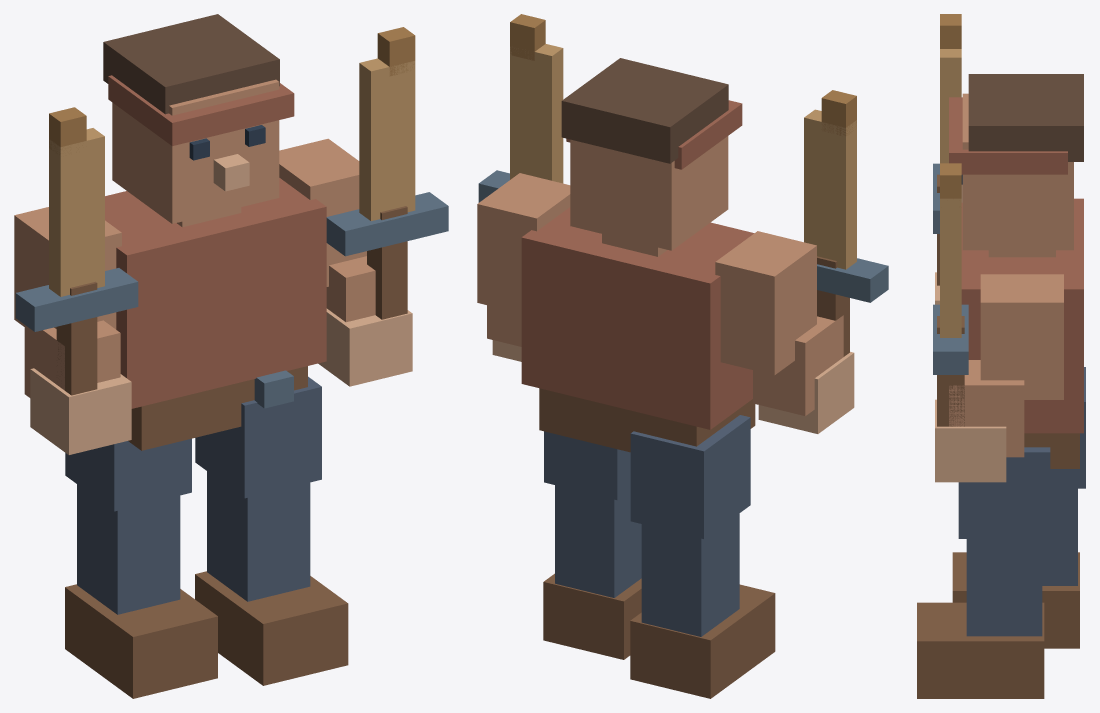
File: arena-q-knives.glb
3 views of the same model, side by side, from view 1: azimuth 30°, elevation 25°; view 2: azimuth 150°, elevation 25°; view 3: azimuth 270°, elevation 25° (orthographic). The views are drawn at different scales.
Visible parts, largest first — view 1: Legs, Cloth, Weapon, Head, Boots, Arms, Hands, Belt, Headband, Face; view 2: Cloth, Legs, Head, Arms, Weapon, Boots, Belt, Hands, Headband; view 3: Head, Legs, Arms, Boots, Weapon, Cloth, Hands, Headband, Belt.
Boxes of the visible parts, <box> form: Legs: <box>65,376,321,614</box>; Cloth: <box>105,178,326,408</box>; Weapon: <box>15,27,448,395</box>; Head: <box>103,14,279,227</box>; Boots: <box>65,571,348,698</box>; Arms: <box>14,138,375,397</box>; Hands: <box>30,308,412,454</box>; Belt: <box>128,366,307,450</box>; Headband: <box>108,75,294,146</box>; Face: <box>189,125,265,191</box>; Cloth: <box>521,207,754,429</box>; Legs: <box>544,415,750,636</box>; Head: <box>561,58,728,256</box>; Arms: <box>477,173,843,416</box>; Weapon: <box>478,14,888,356</box>; Boots: <box>543,573,775,698</box>; Belt: <box>539,388,755,452</box>; Hands: <box>492,340,854,433</box>; Headband: <box>566,100,742,169</box>; Head: <box>962,74,1083,257</box>; Legs: <box>958,367,1085,636</box>; Arms: <box>949,274,1063,457</box>; Boots: <box>917,552,1079,698</box>; Weapon: <box>933,14,968,426</box>; Cloth: <box>961,198,1083,433</box>; Hands: <box>935,272,1006,482</box>; Headband: <box>949,97,1067,174</box>; Belt: <box>1024,433,1079,468</box>.
Size of the model in its own units: 1.12 by 1.55 by 0.4236.
